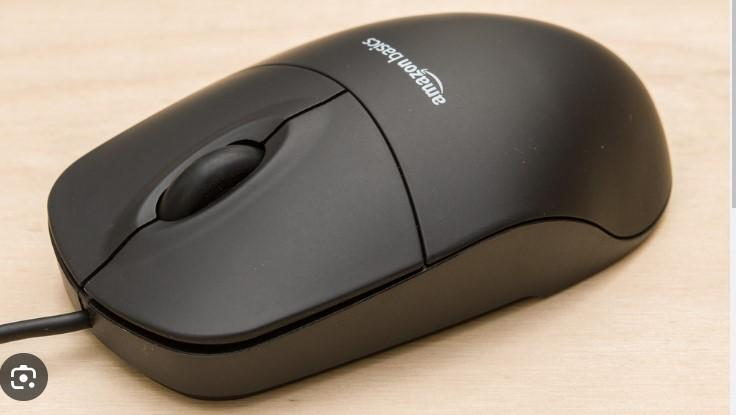computer mouse: (46, 12, 675, 402)
